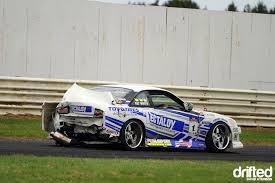boot-dent: (53, 101, 103, 127)
rear-bumper-dent: (65, 125, 116, 136)
